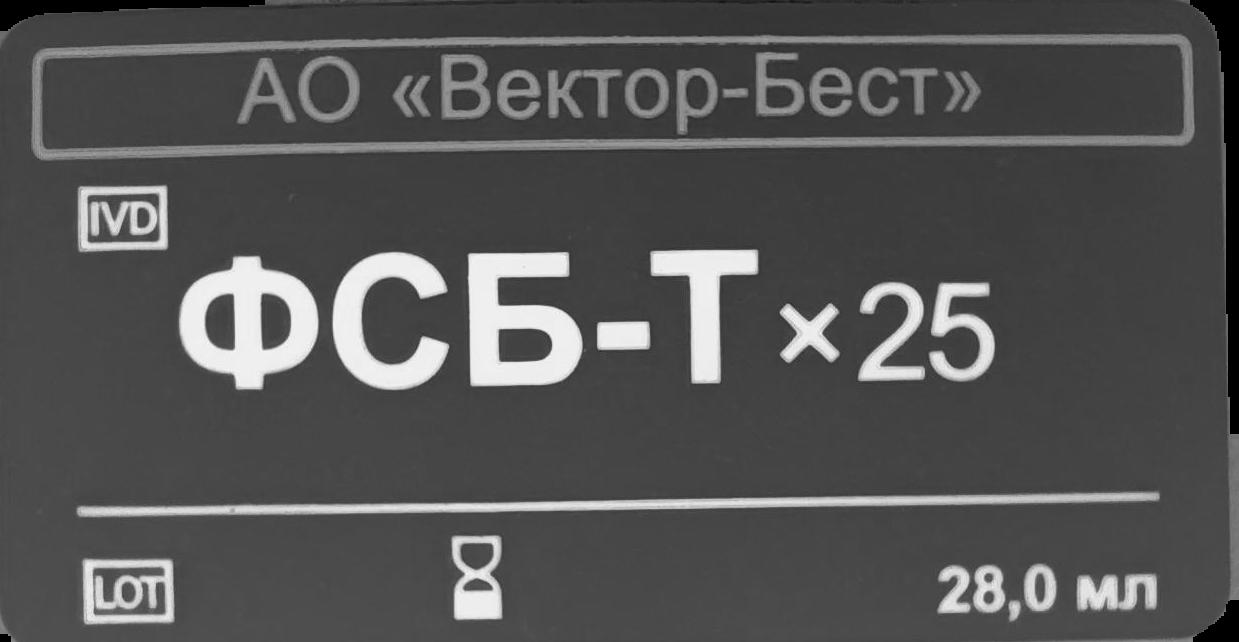something: (81, 556, 179, 632), (74, 183, 173, 253), (449, 533, 511, 626)
text: (176, 243, 1001, 394), (229, 53, 991, 132), (921, 558, 1166, 626)
